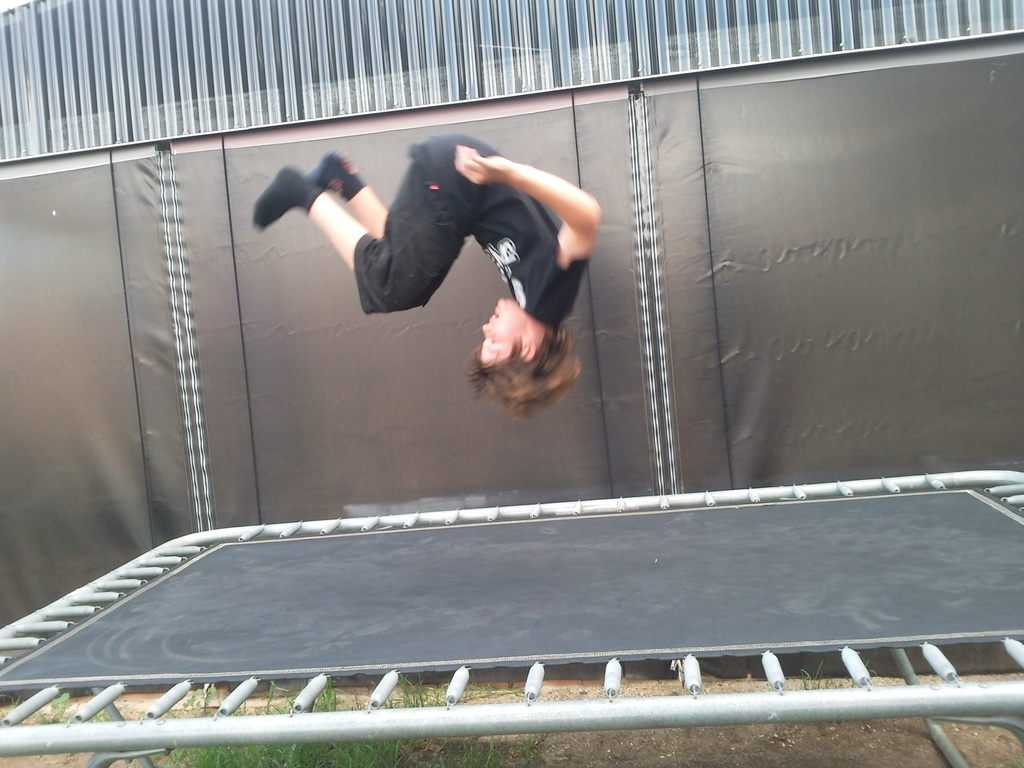Person: (256, 136, 598, 411)
